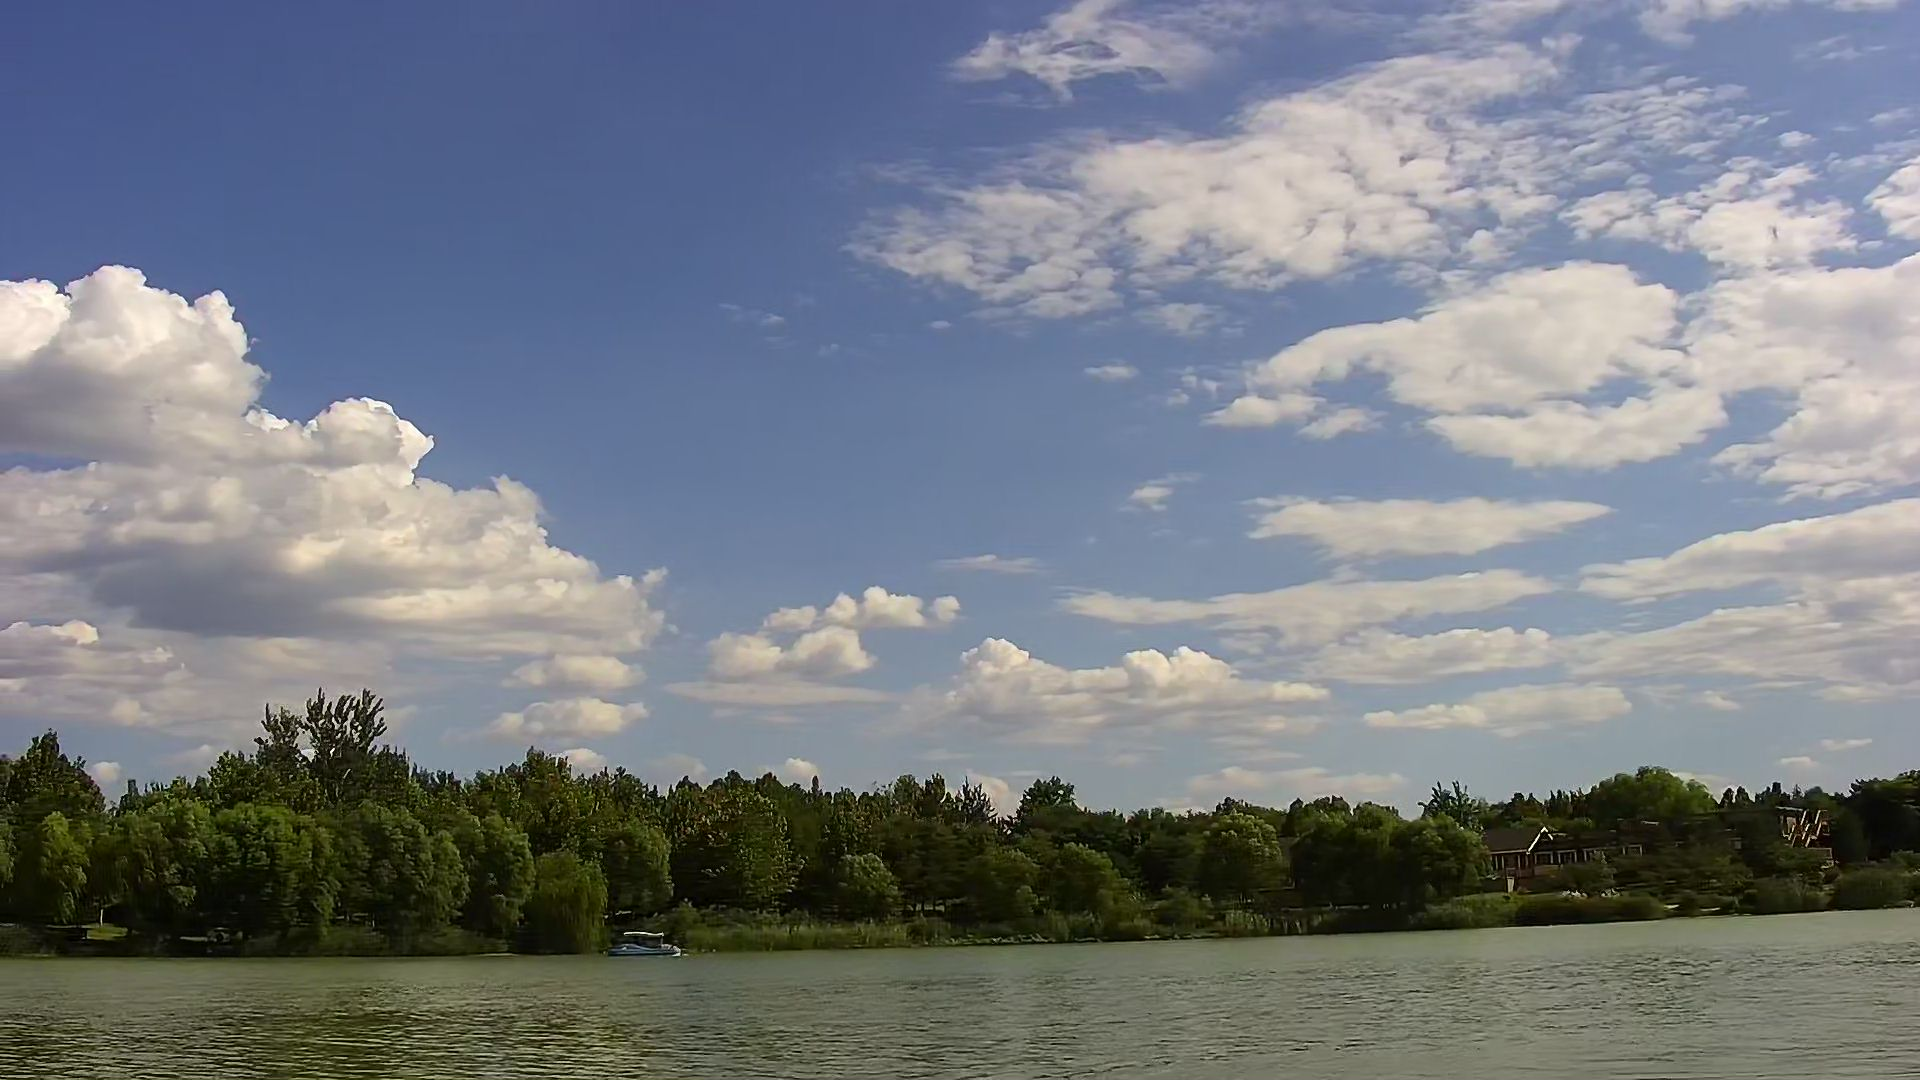boat: (607, 927, 698, 961)
